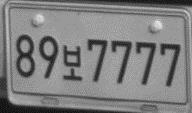7: (108, 39, 132, 84), (158, 42, 182, 87), (85, 38, 108, 83), (134, 40, 156, 85)
8: (14, 33, 35, 78)
9: (38, 35, 59, 79)
보: (62, 43, 84, 82)
